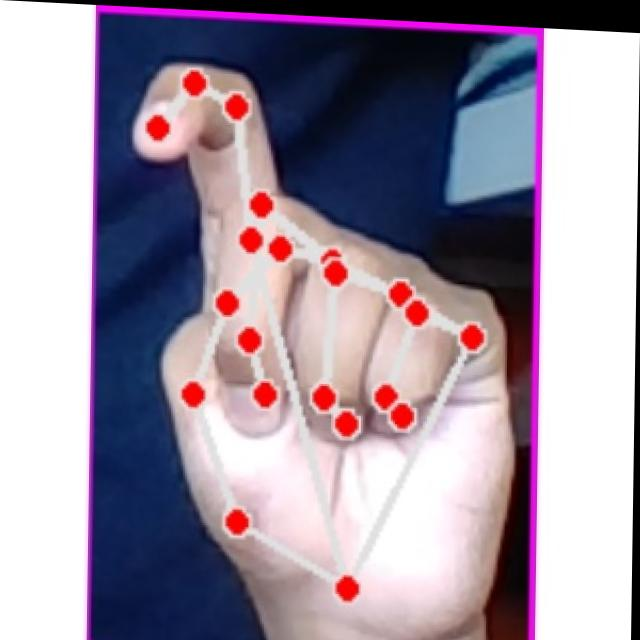Z: (114, 48, 522, 637)
